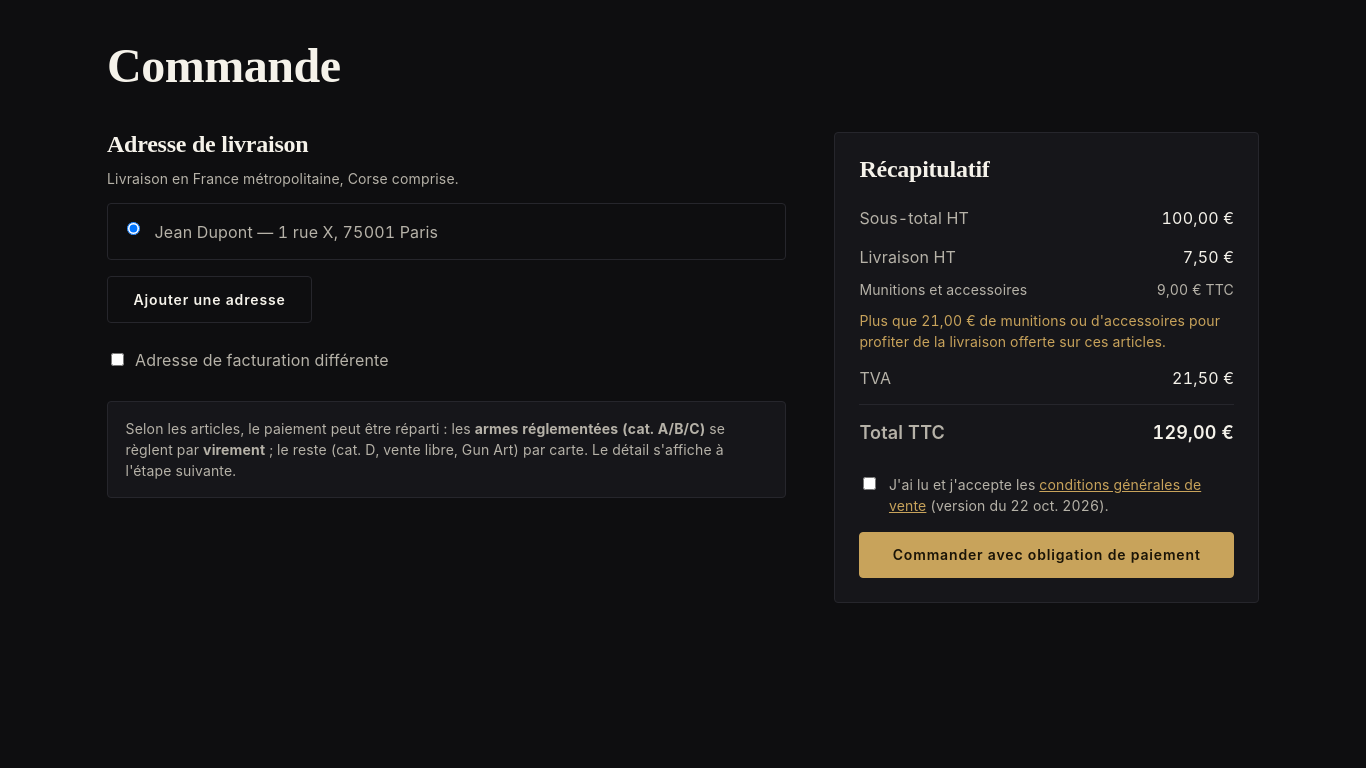
Test: commande/index.vue — cart changed (story 12.9d) › shows what changed, refreshes the summary, and lets the customer confirm again
Click the checkbox named "terms" at x=870, y=483, box [863,477,876,490]
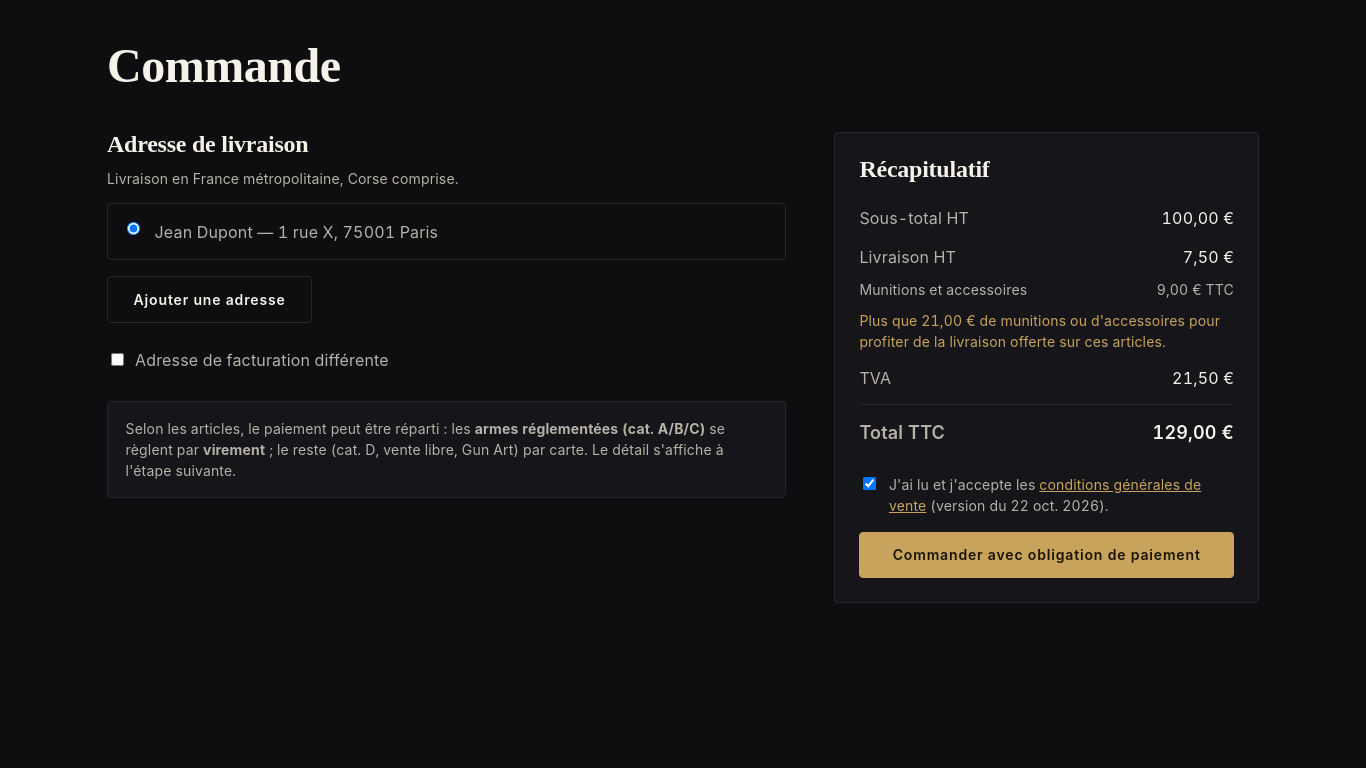
Click the button with class "summary__cta" at x=1047, y=555, box [859,532,1234,578]
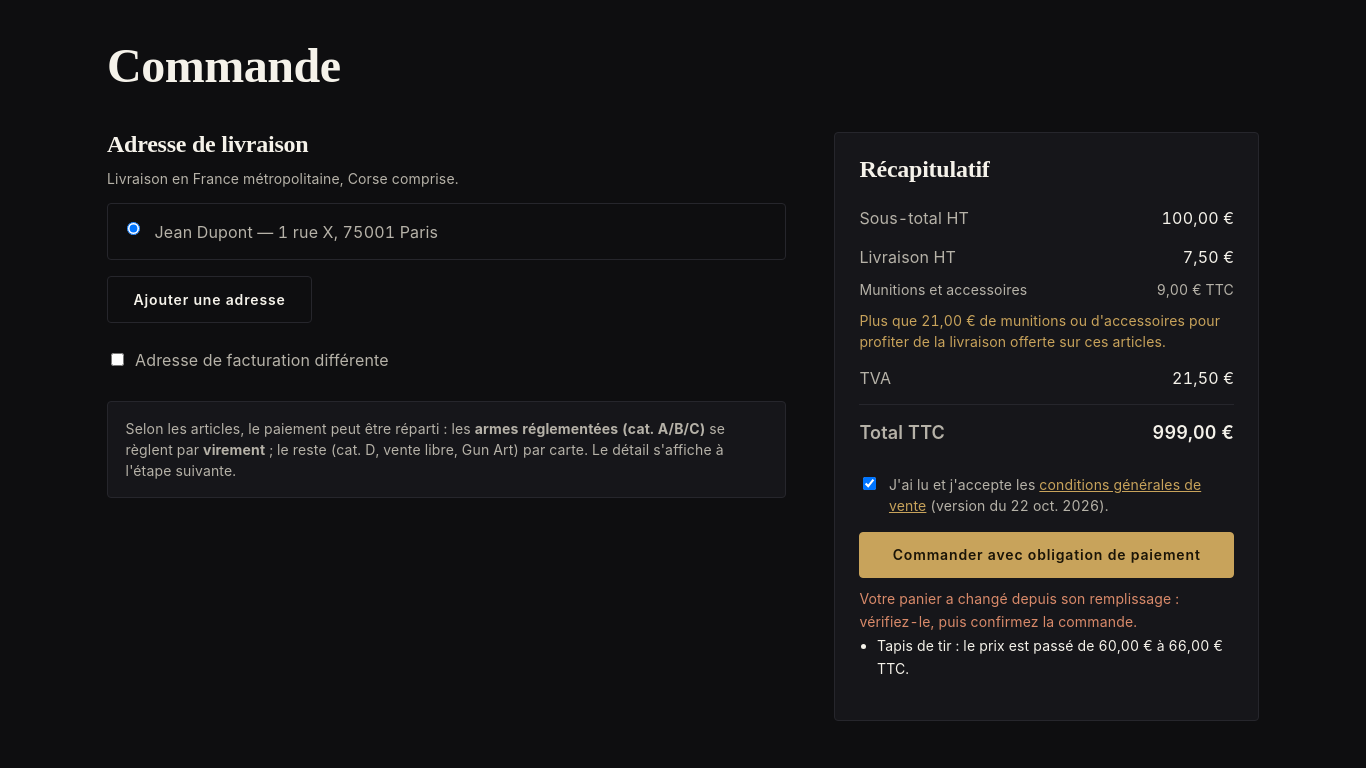
Check: the list with class "cart-changes" shows "Tapis de tir : le prix est passé de", box [877,636,1223,677]
Check: the text "Votre panier a changé" is shown, box [859,590,1179,630]
